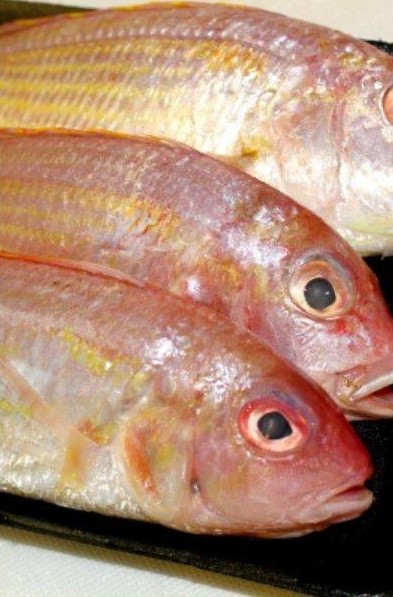Ikan Kerisi: (4, 327, 393, 595), (14, 151, 389, 371)
